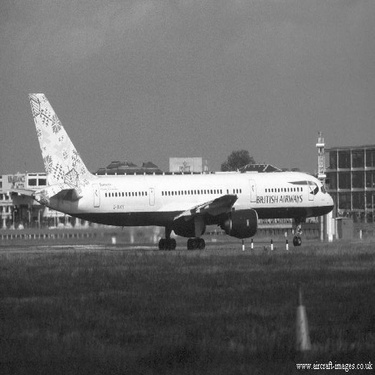airplane: (7, 84, 337, 255)
